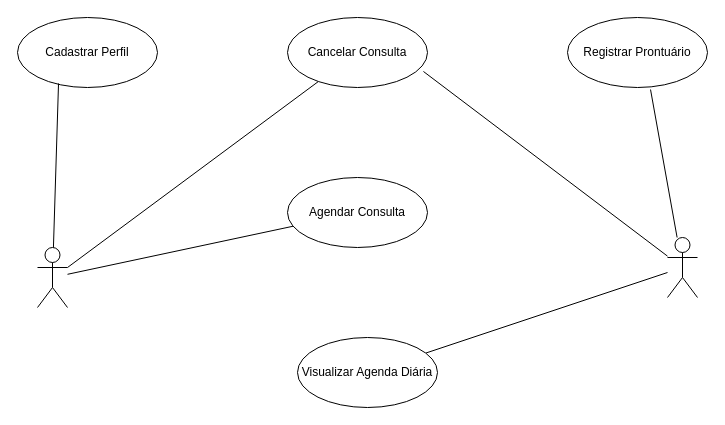
This 725x425 diagram has some shape labels left out. The shapes that lost their labels are listed below. From the top down, each one's box as (x1, y1, x2, y2) in pixels, then its label:
(36, 246, 68, 308): Paciente
(666, 236, 698, 298): Médico
